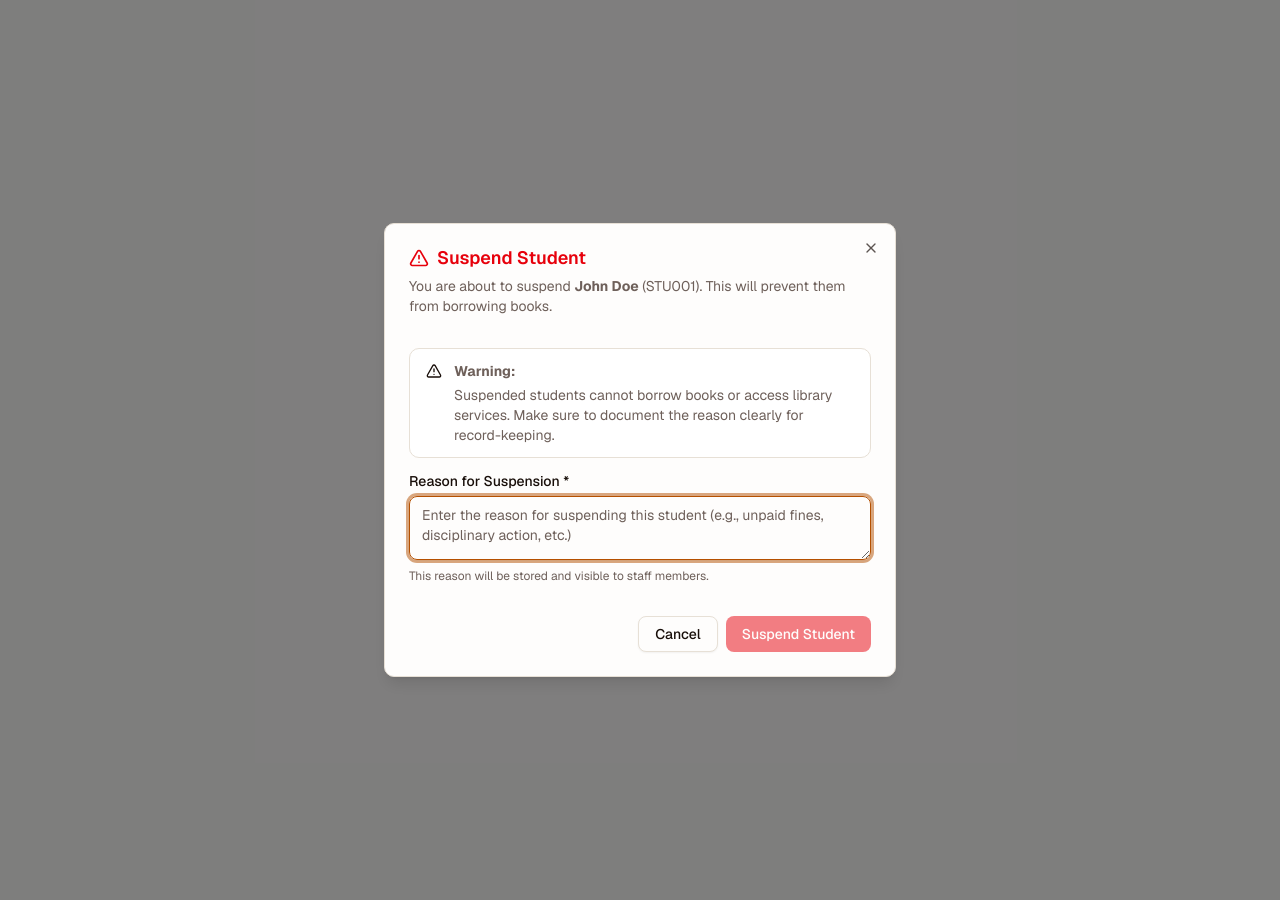
Scenario: SuspendDialog › submit button is enabled with valid reason
Type a reason that meets minimum length (10 characters)
Type "Violated library rules multiple times" into the text box at (640, 528), box top-left (409, 496), bottom-right (871, 560)
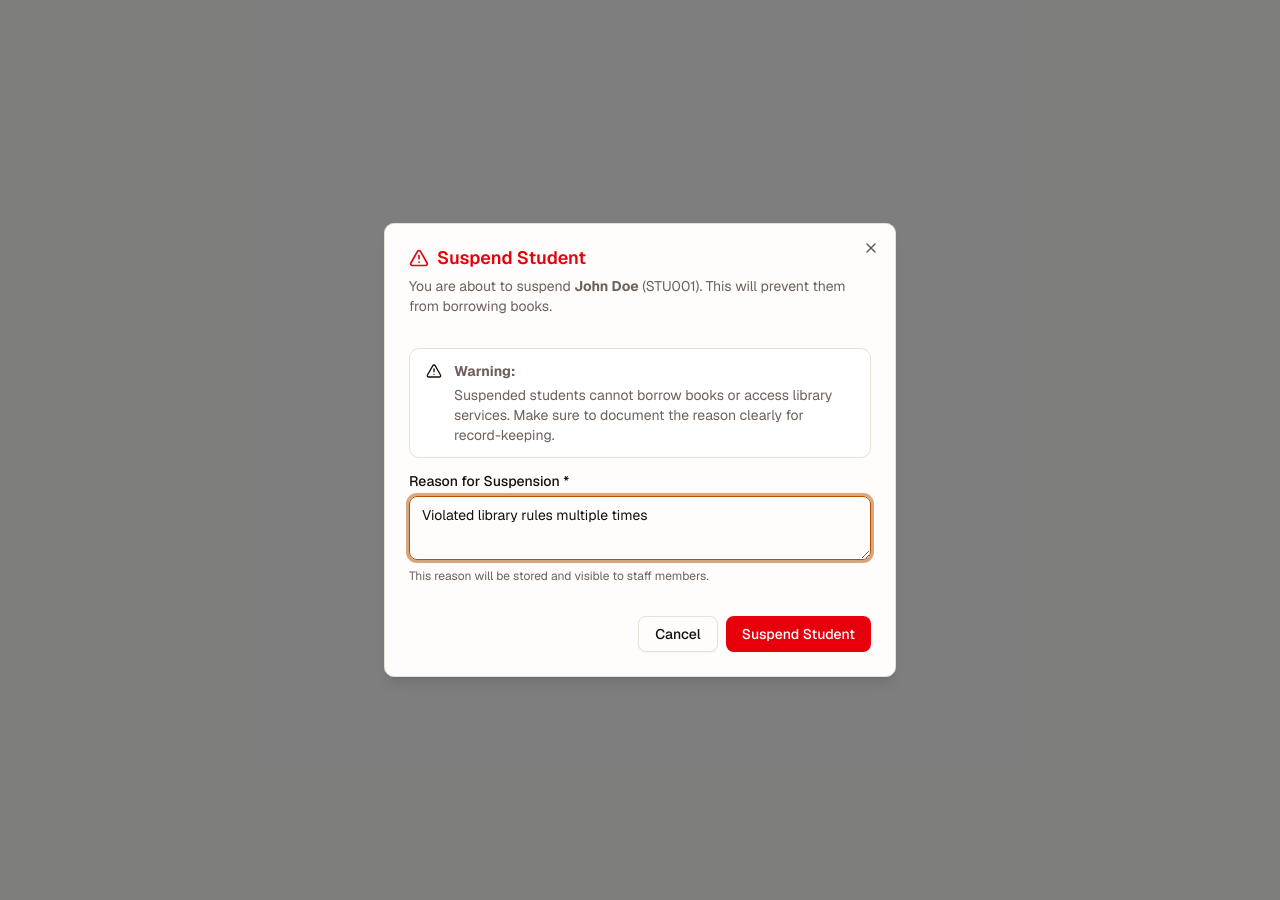
Now the button "Suspend Student" is enabled, box top-left (726, 616), bottom-right (871, 652)
